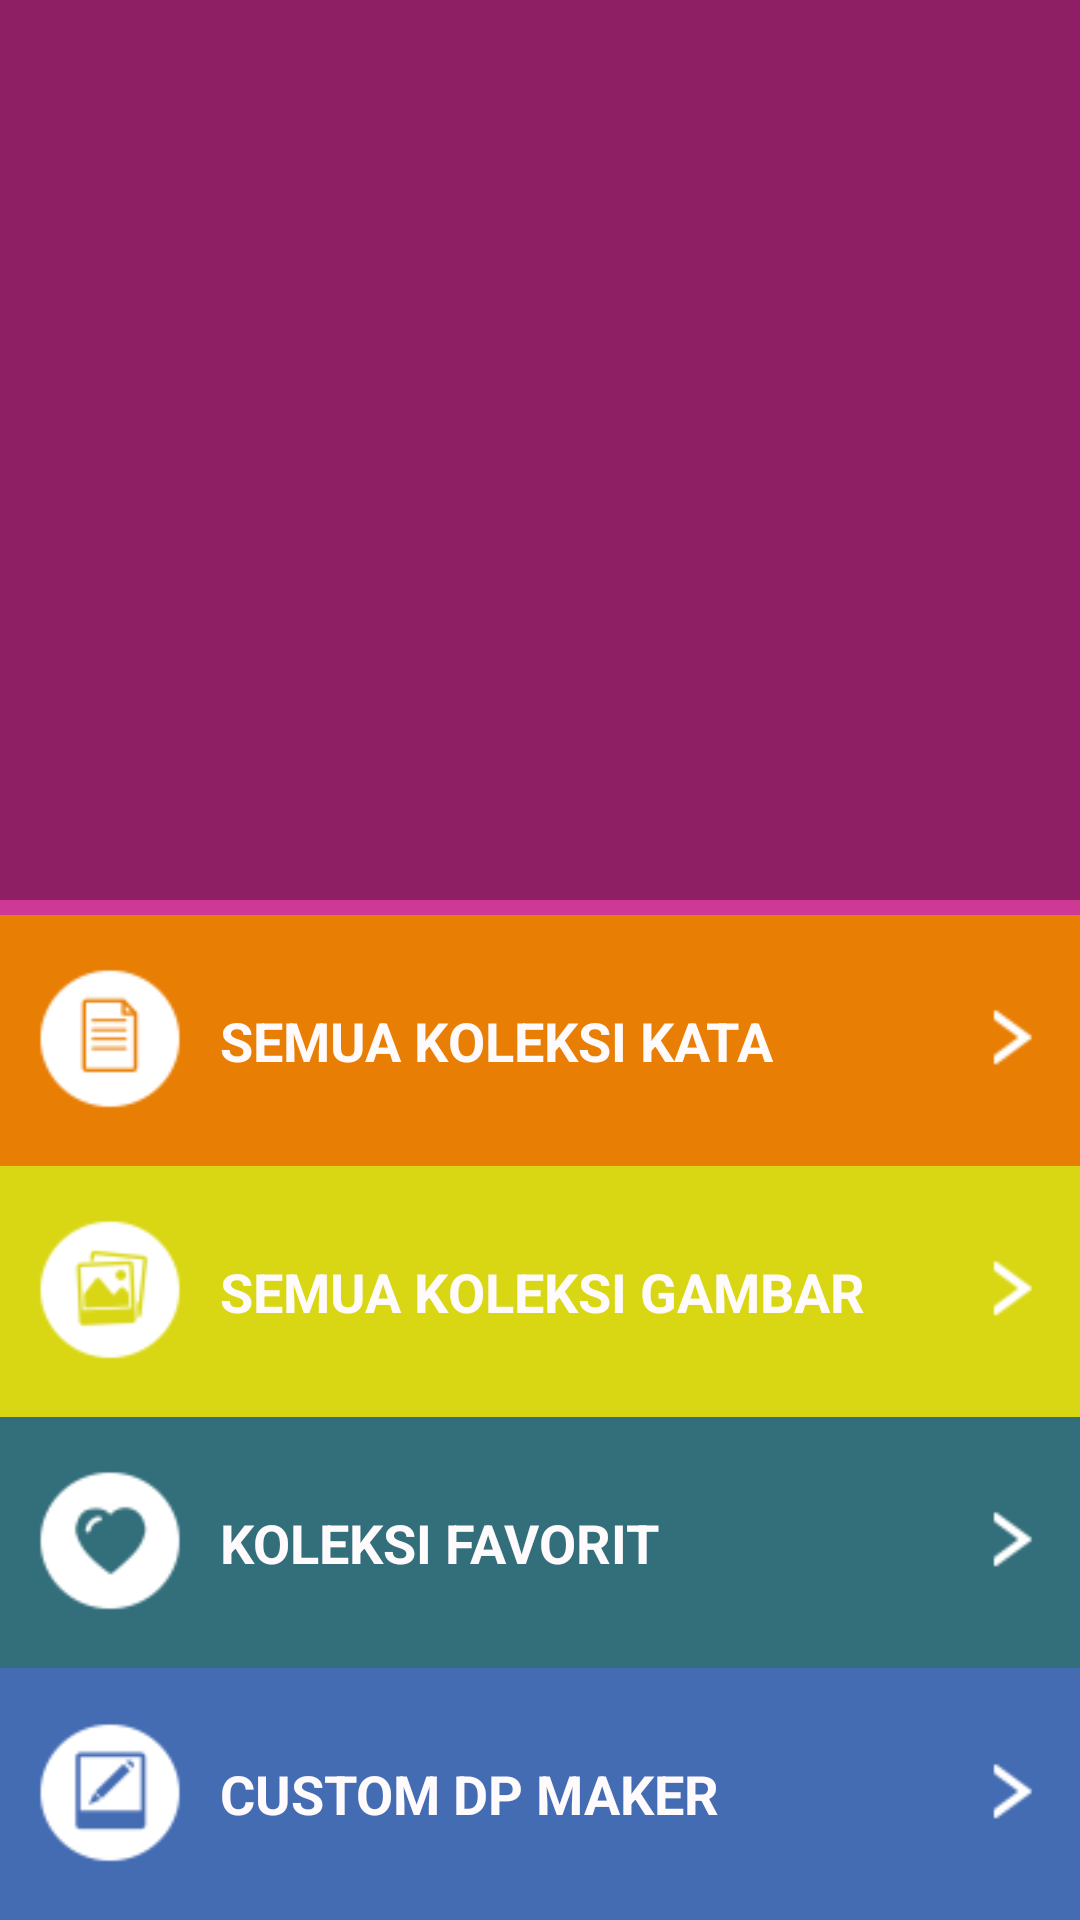

Point at icon controls on the screen. Image size 1080*1920, points as point (x, y).
anak panah: point (1012, 1037), point (1012, 1288), point (1012, 1539), point (1012, 1791)
